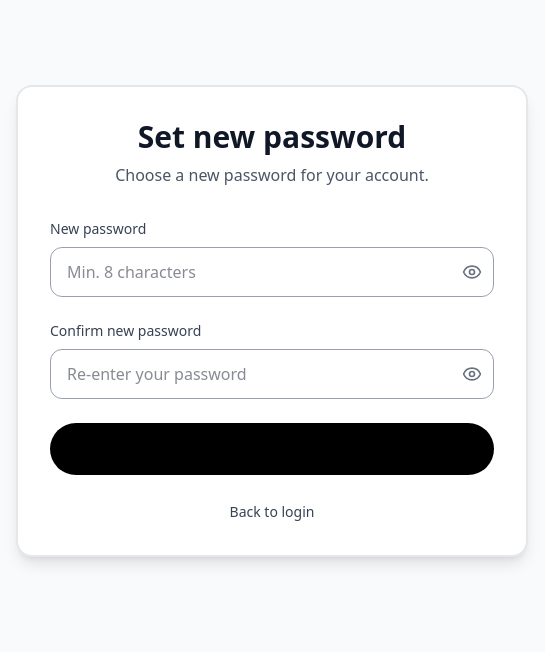
Scenario: NewPasswordPage › shows password rules when password field is focused
Focus the password field labelled "New password" at (272, 272), box [50,247,494,297]
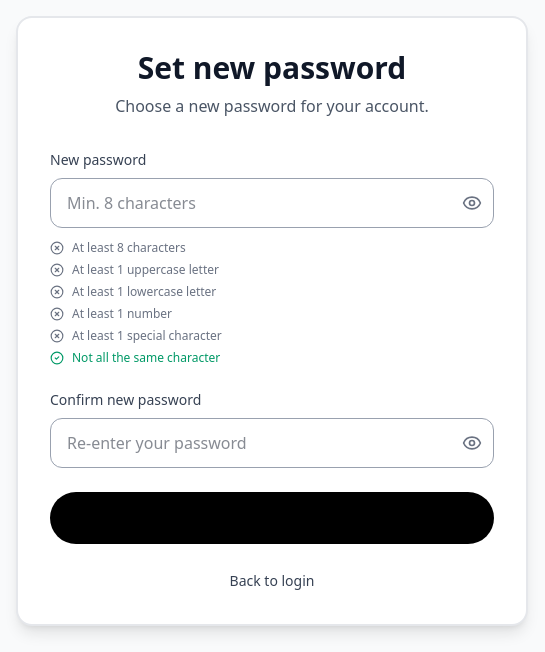
expect the list item "At least 8 characters" is shown: met, box [50,239,186,256]
expect the list item "At least 1 uppercase letter" is shown: met, box [50,261,219,278]
expect the list item "At least 1 lowercase letter" is shown: met, box [50,283,216,300]
